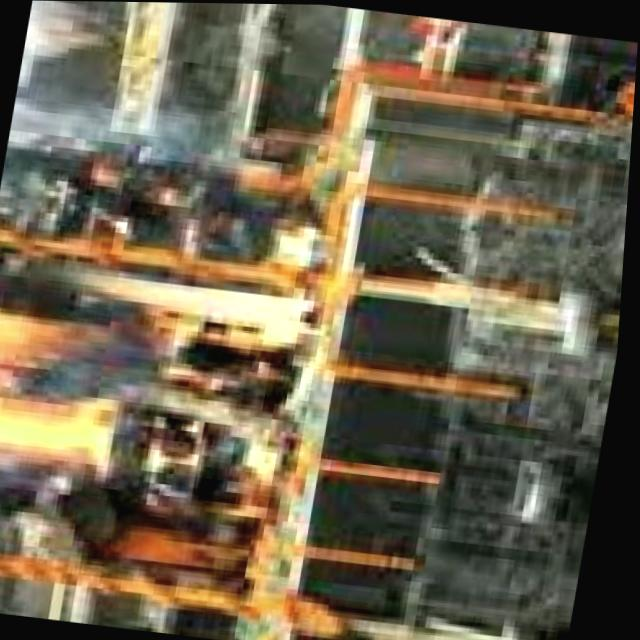fire: (0, 251, 334, 504)
